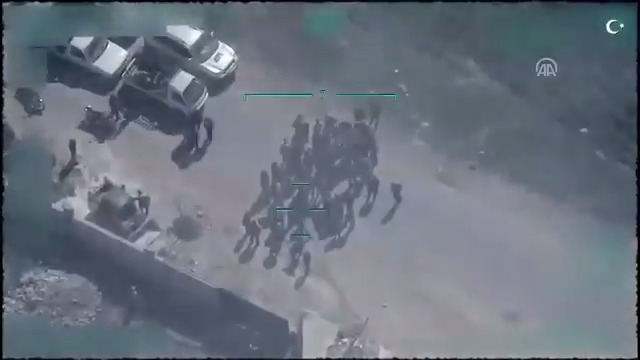arac: (138, 14, 250, 84), (123, 42, 211, 113), (53, 26, 138, 82), (87, 161, 149, 236)
insan: (384, 172, 405, 207), (135, 181, 158, 212)
